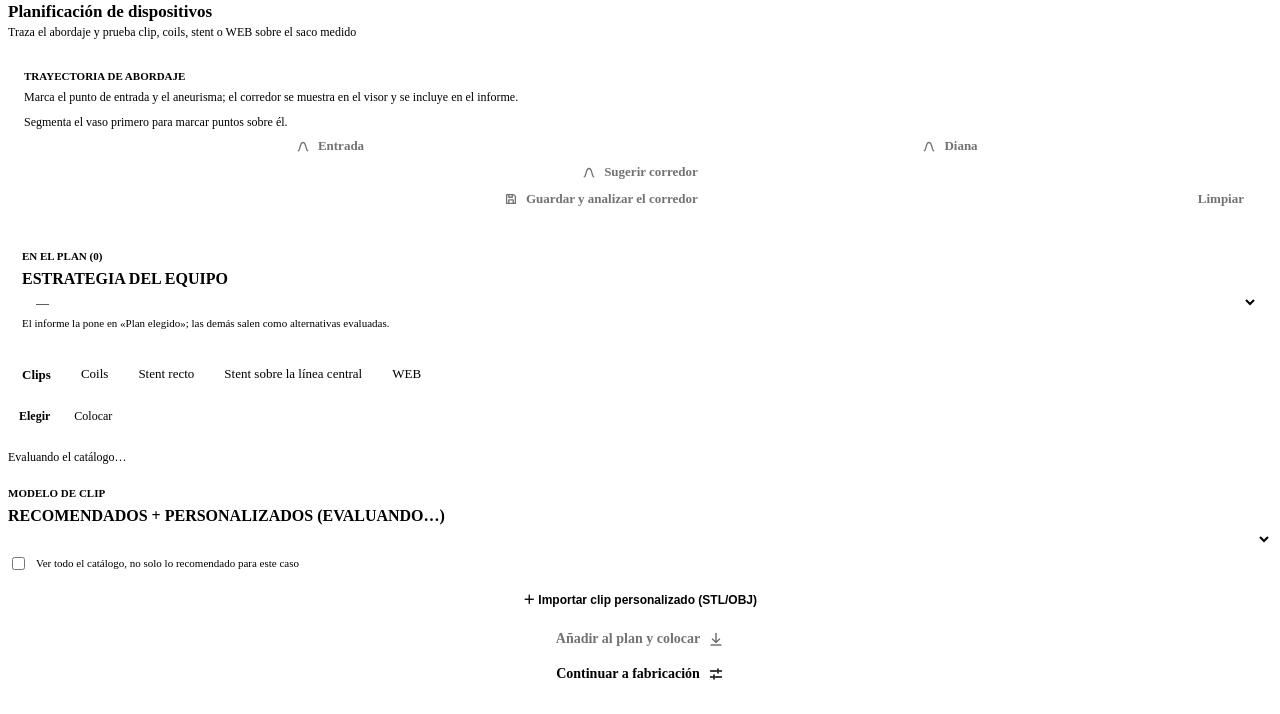
Test: stent recto › nominal y desplegado sí dice «OK»
Click the button "Stent recto" at (166, 374), box [124,358,208,392]
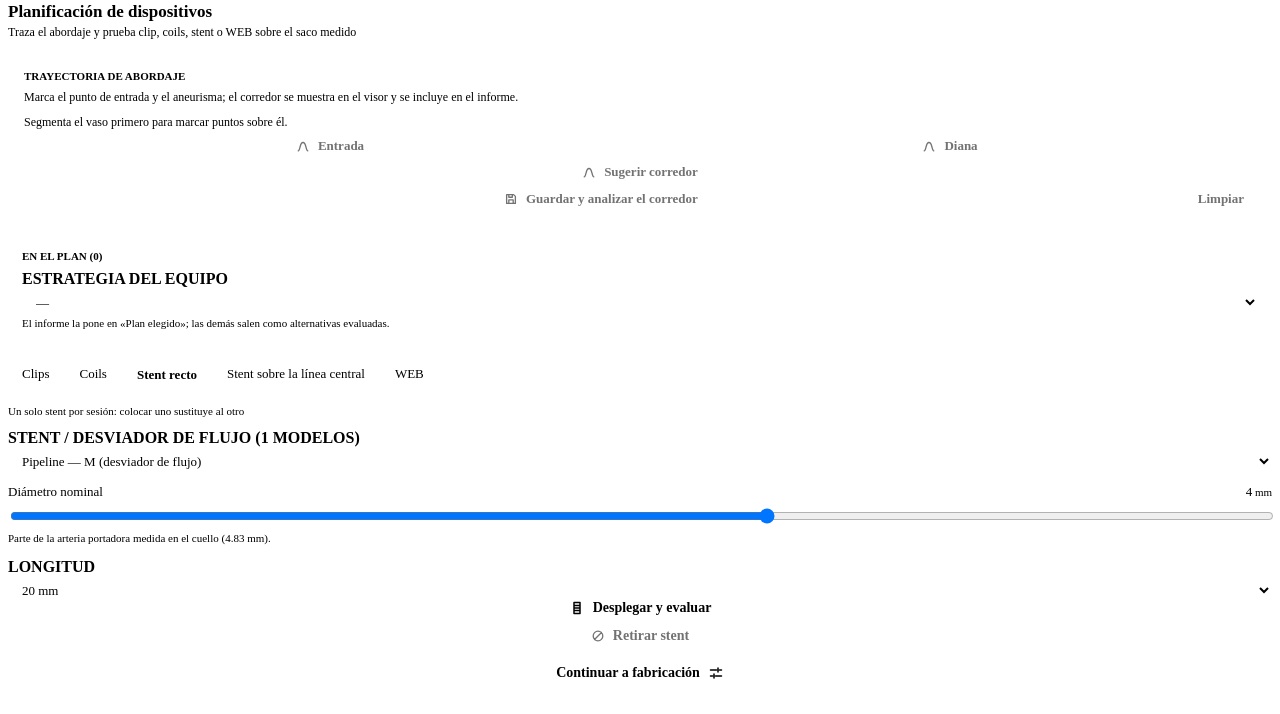
Result: the slider labelled "Diámetro nominal" is shown at [10,508,1274,524]
Click the button "Desplegar y evaluar" at (640, 608), box [8,599,1272,617]
(page scrolled)
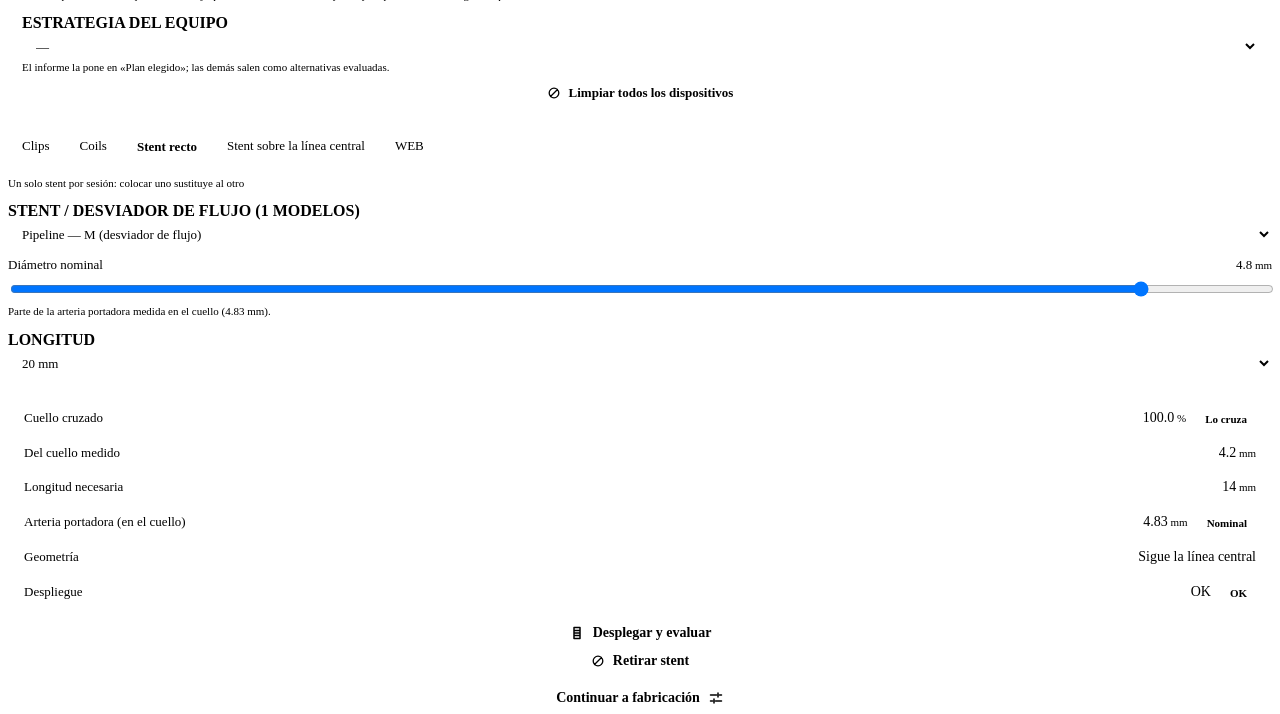
Result: the 1st text "OK" is shown at [1191,584,1211,600]
